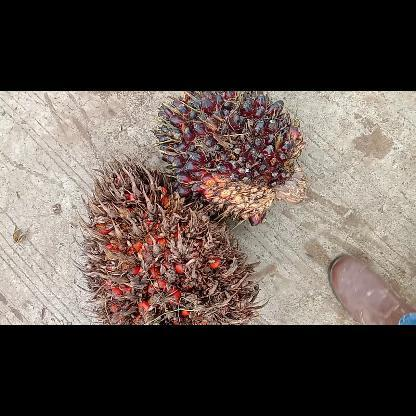TBS mentah: (150, 90, 307, 228)
Terlalu masak: (72, 152, 270, 324)
